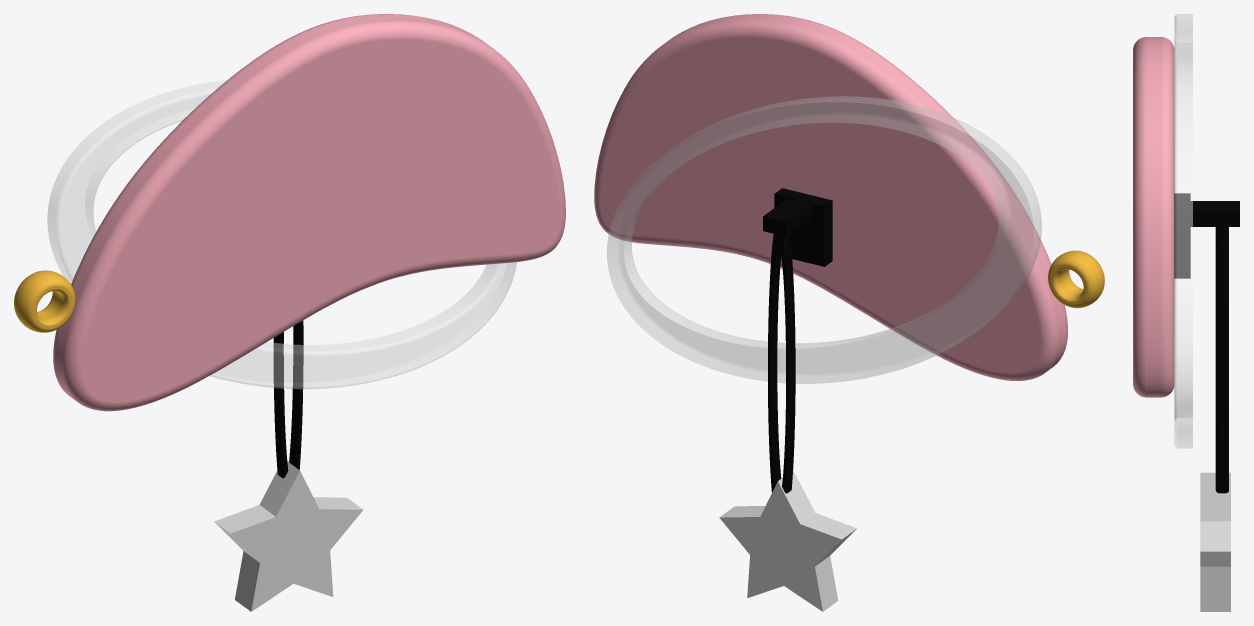
Rendered from finalrendering sample.USDZ.glb.
3 renders of one model, left to right at view 1: azimuth 30°, elevation 25°; view 2: azimuth 150°, elevation 25°; view 3: azimuth 270°, elevation 25°, orthographic. The views are drawn at different scales.
Parts seen in each view (by area): view 1: Default(E33F61BB-689E-4528-A421-AD4DEE9792FC), Default(BED296A4-87B4-4E57-AF05-D0E7523EA283), Default(A0A6D23D-A252-439C-853F-A02458266E97), Default(B6EA8904-93D9-4ADA-8849-9F5DAAD09028), Default(C5FE4B09-AE84-4E0B-BC6B-55923E562670); view 2: Default(E33F61BB-689E-4528-A421-AD4DEE9792FC), Default(BED296A4-87B4-4E57-AF05-D0E7523EA283), Default(A0A6D23D-A252-439C-853F-A02458266E97), Default(B6EA8904-93D9-4ADA-8849-9F5DAAD09028), Default(9249D1FA-660F-419F-B8E6-7CCFB89A1147), Default(C5FE4B09-AE84-4E0B-BC6B-55923E562670); view 3: Default(E33F61BB-689E-4528-A421-AD4DEE9792FC), Default(BED296A4-87B4-4E57-AF05-D0E7523EA283), Default(A0A6D23D-A252-439C-853F-A02458266E97), Default(B6EA8904-93D9-4ADA-8849-9F5DAAD09028), Default(9249D1FA-660F-419F-B8E6-7CCFB89A1147).
Part boxes in pixels (x1=…): Default(E33F61BB-689E-4528-A421-AD4DEE9792FC): x1=53, y1=14, x2=565, y2=411; Default(BED296A4-87B4-4E57-AF05-D0E7523EA283): x1=47, y1=80, x2=516, y2=388; Default(A0A6D23D-A252-439C-853F-A02458266E97): x1=214, y1=461, x2=363, y2=611; Default(B6EA8904-93D9-4ADA-8849-9F5DAAD09028): x1=273, y1=320, x2=303, y2=478; Default(C5FE4B09-AE84-4E0B-BC6B-55923E562670): x1=14, y1=270, x2=75, y2=332; Default(E33F61BB-689E-4528-A421-AD4DEE9792FC): x1=594, y1=14, x2=1067, y2=380; Default(BED296A4-87B4-4E57-AF05-D0E7523EA283): x1=607, y1=96, x2=1041, y2=383; Default(A0A6D23D-A252-439C-853F-A02458266E97): x1=719, y1=470, x2=856, y2=611; Default(B6EA8904-93D9-4ADA-8849-9F5DAAD09028): x1=768, y1=210, x2=795, y2=493; Default(9249D1FA-660F-419F-B8E6-7CCFB89A1147): x1=763, y1=188, x2=832, y2=266; Default(C5FE4B09-AE84-4E0B-BC6B-55923E562670): x1=1048, y1=250, x2=1104, y2=308; Default(E33F61BB-689E-4528-A421-AD4DEE9792FC): x1=1133, y1=37, x2=1174, y2=397; Default(BED296A4-87B4-4E57-AF05-D0E7523EA283): x1=1174, y1=14, x2=1192, y2=448; Default(A0A6D23D-A252-439C-853F-A02458266E97): x1=1200, y1=472, x2=1230, y2=611; Default(B6EA8904-93D9-4ADA-8849-9F5DAAD09028): x1=1215, y1=207, x2=1228, y2=493; Default(9249D1FA-660F-419F-B8E6-7CCFB89A1147): x1=1174, y1=193, x2=1239, y2=278.
Bounding box in the file's own units: 3.4 × 3.57 × 0.6295.
